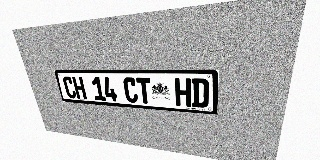1: (90, 77, 106, 101)
4: (102, 77, 118, 102)
C: (122, 77, 139, 103), (62, 76, 77, 99)
D: (192, 78, 209, 108)
H: (175, 78, 191, 107), (72, 77, 87, 99)
T: (136, 77, 152, 104)
